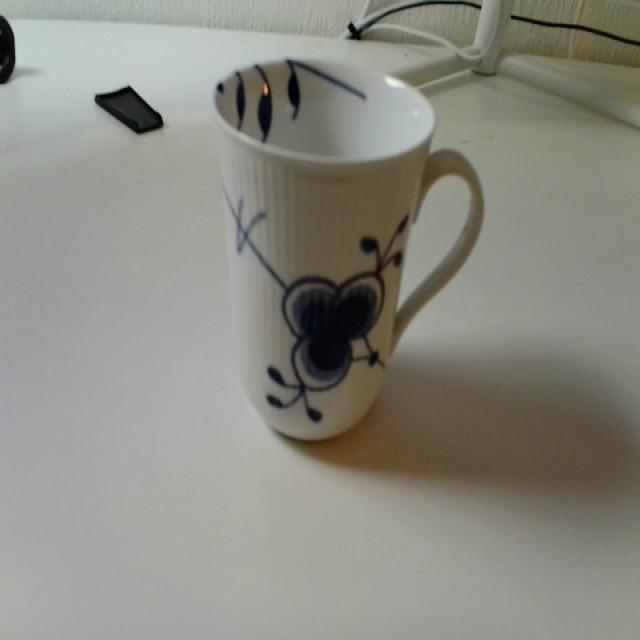Hand painted cup: (211, 55, 490, 449)
